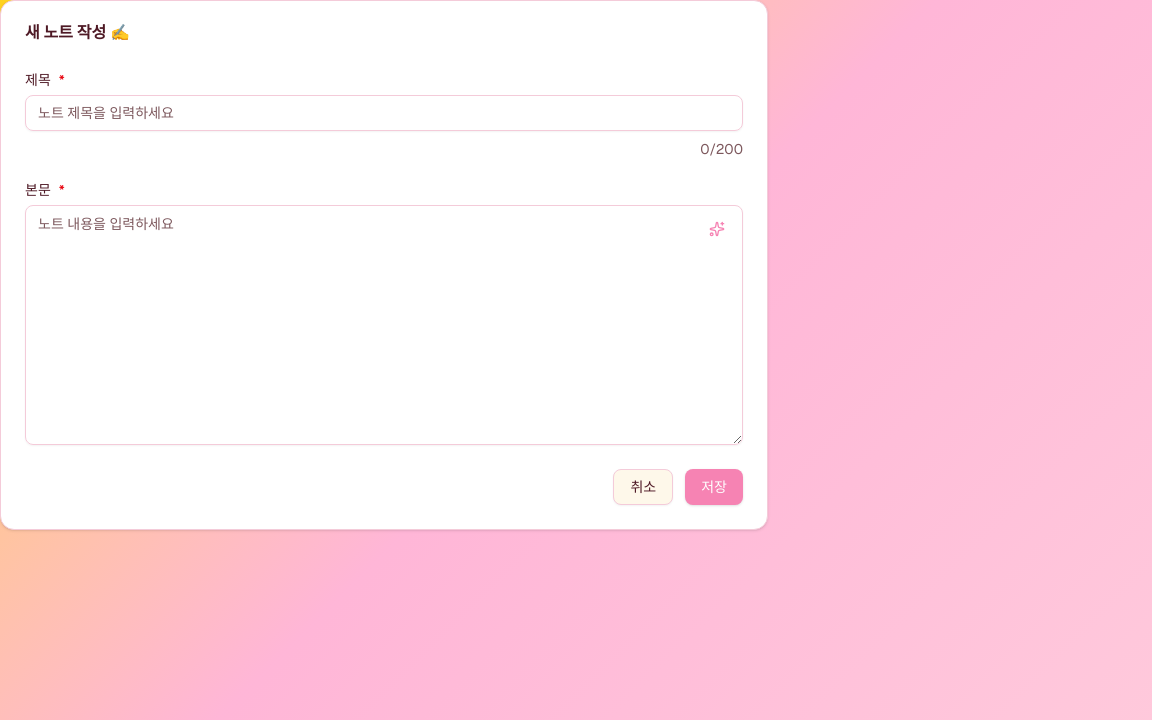
Test: NoteForm 컴포넌트 › 입력 중 에러가 사라진다
# 먼저 에러를 발생시킴
Click the button "저장". click: (714, 487)
box: left=685, top=469, right=743, bottom=505
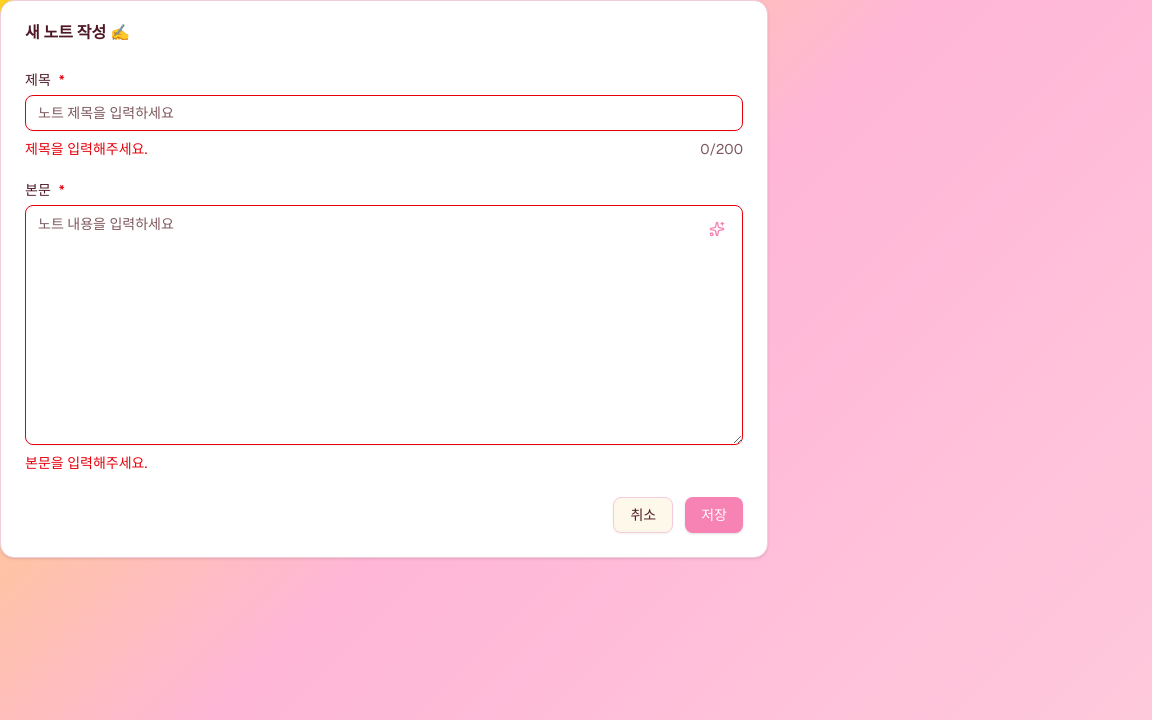
Expected: the text "제목을 입력해주세요." is shown, left=25, top=139, right=147, bottom=159
# 입력하면 에러가 사라짐
Type "Test" into the field labelled "제목 *". click: (384, 113)
box: left=25, top=95, right=743, bottom=131
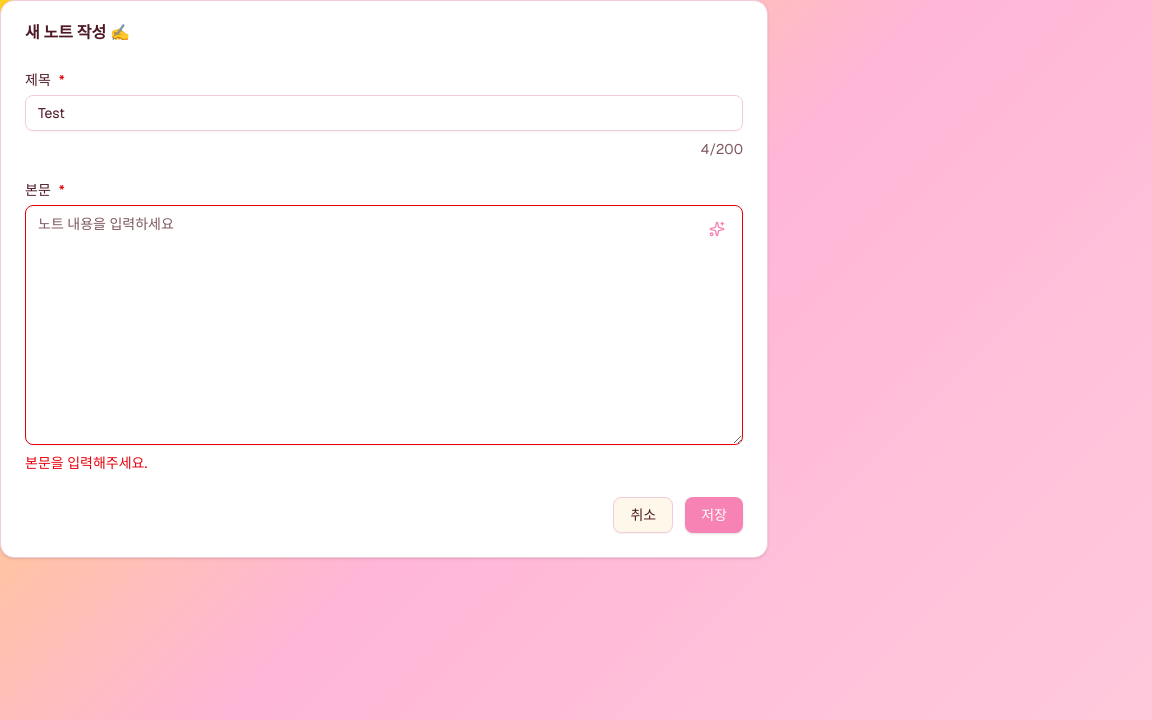
Expected: the text "제목을 입력해주세요." is gone
